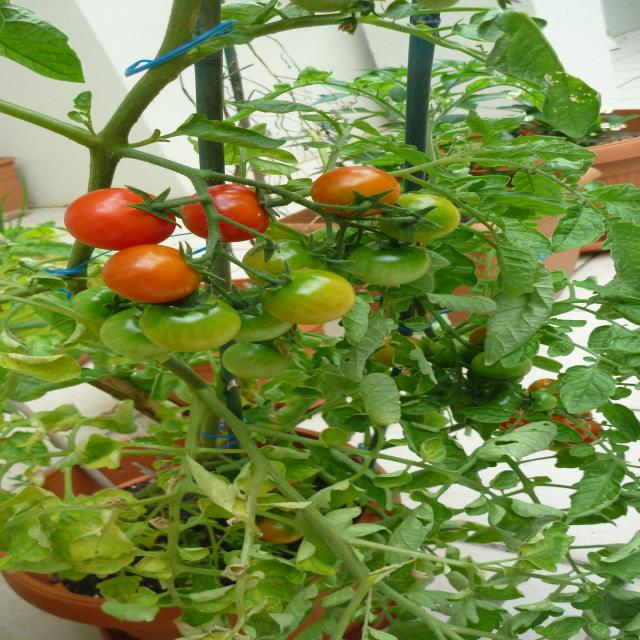tomato: (59, 181, 184, 251), (100, 244, 204, 302), (306, 166, 407, 216)
